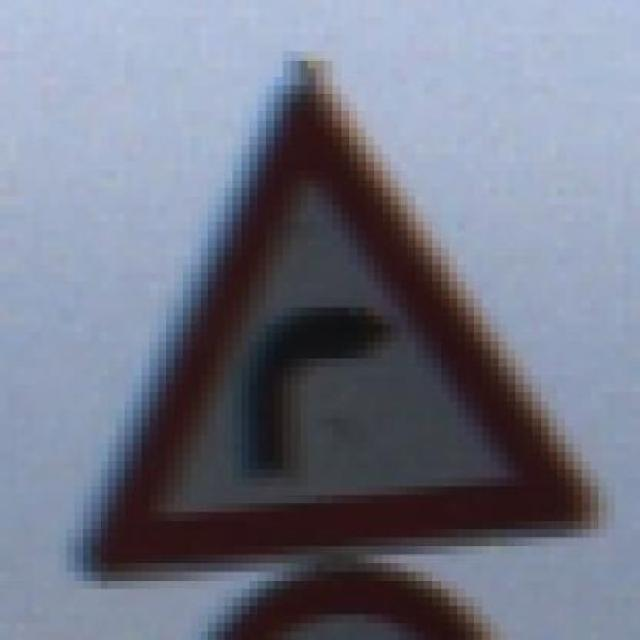Dangerous Rright Curve Ahead: (50, 68, 632, 581)
